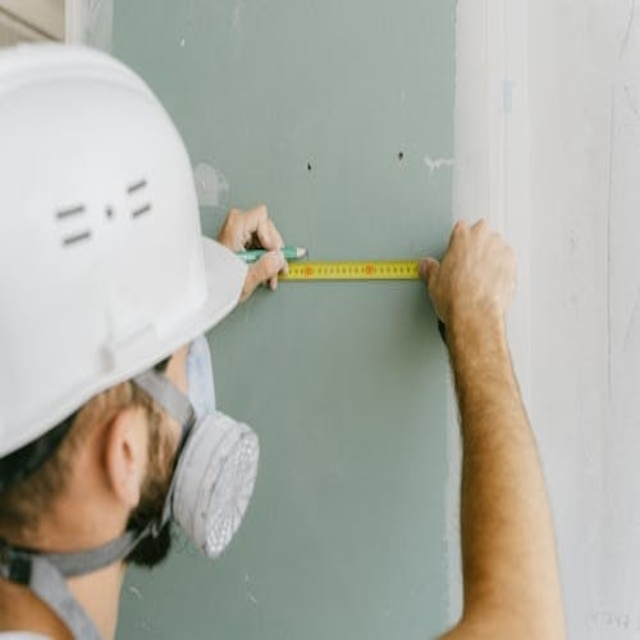Mascara: (146, 337, 263, 561)
Sin_guantes: (417, 216, 518, 359), (215, 194, 288, 302)
